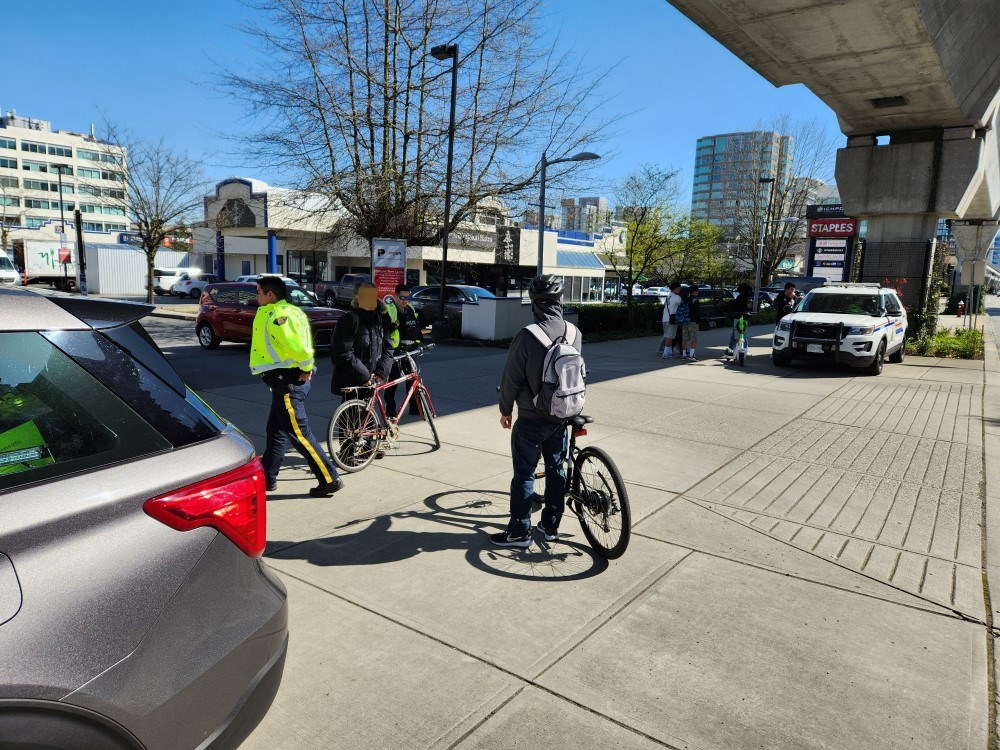Bicycle: (531, 410, 647, 561), (330, 379, 461, 464)
Car: (12, 278, 302, 750), (767, 281, 913, 384)
Person: (238, 278, 349, 510), (658, 269, 712, 360)
